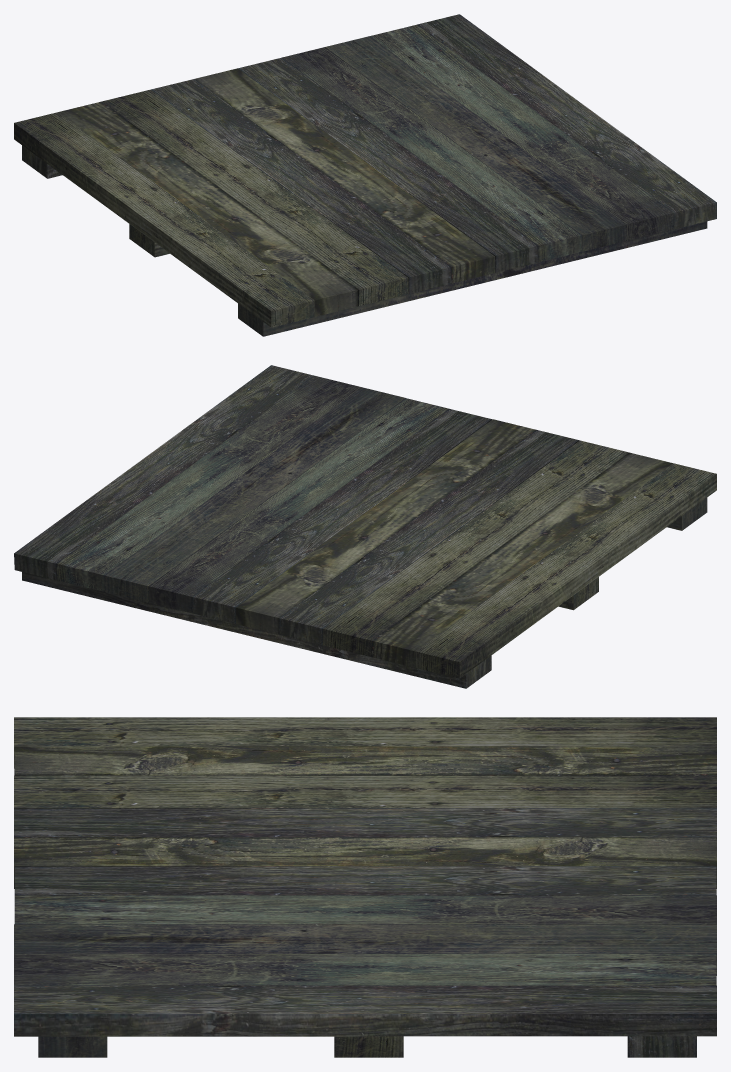
Rendered from OldWoodenFloor 2x2m.fbx.
3 views of the same model, one above another, from view 1: azimuth 30°, elevation 25°; view 2: azimuth 150°, elevation 25°; view 3: azimuth 270°, elevation 25° (orthographic). The views are drawn at different scales.
Visible parts, largest first — view 1: OldWoodenFloor_2x2m; view 2: OldWoodenFloor_2x2m; view 3: OldWoodenFloor_2x2m.
Part boxes in pixels (left/top/right/bottom): OldWoodenFloor_2x2m: left=14, top=14, right=716, bottom=336; OldWoodenFloor_2x2m: left=14, top=365, right=716, bottom=688; OldWoodenFloor_2x2m: left=14, top=717, right=716, bottom=1057.
Bounding box in the file's own units: 2 × 0.1383 × 2.
